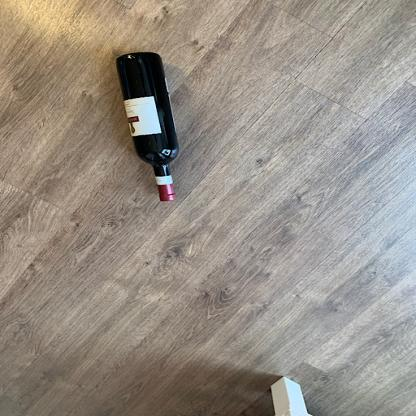trash: (113, 51, 178, 202)
